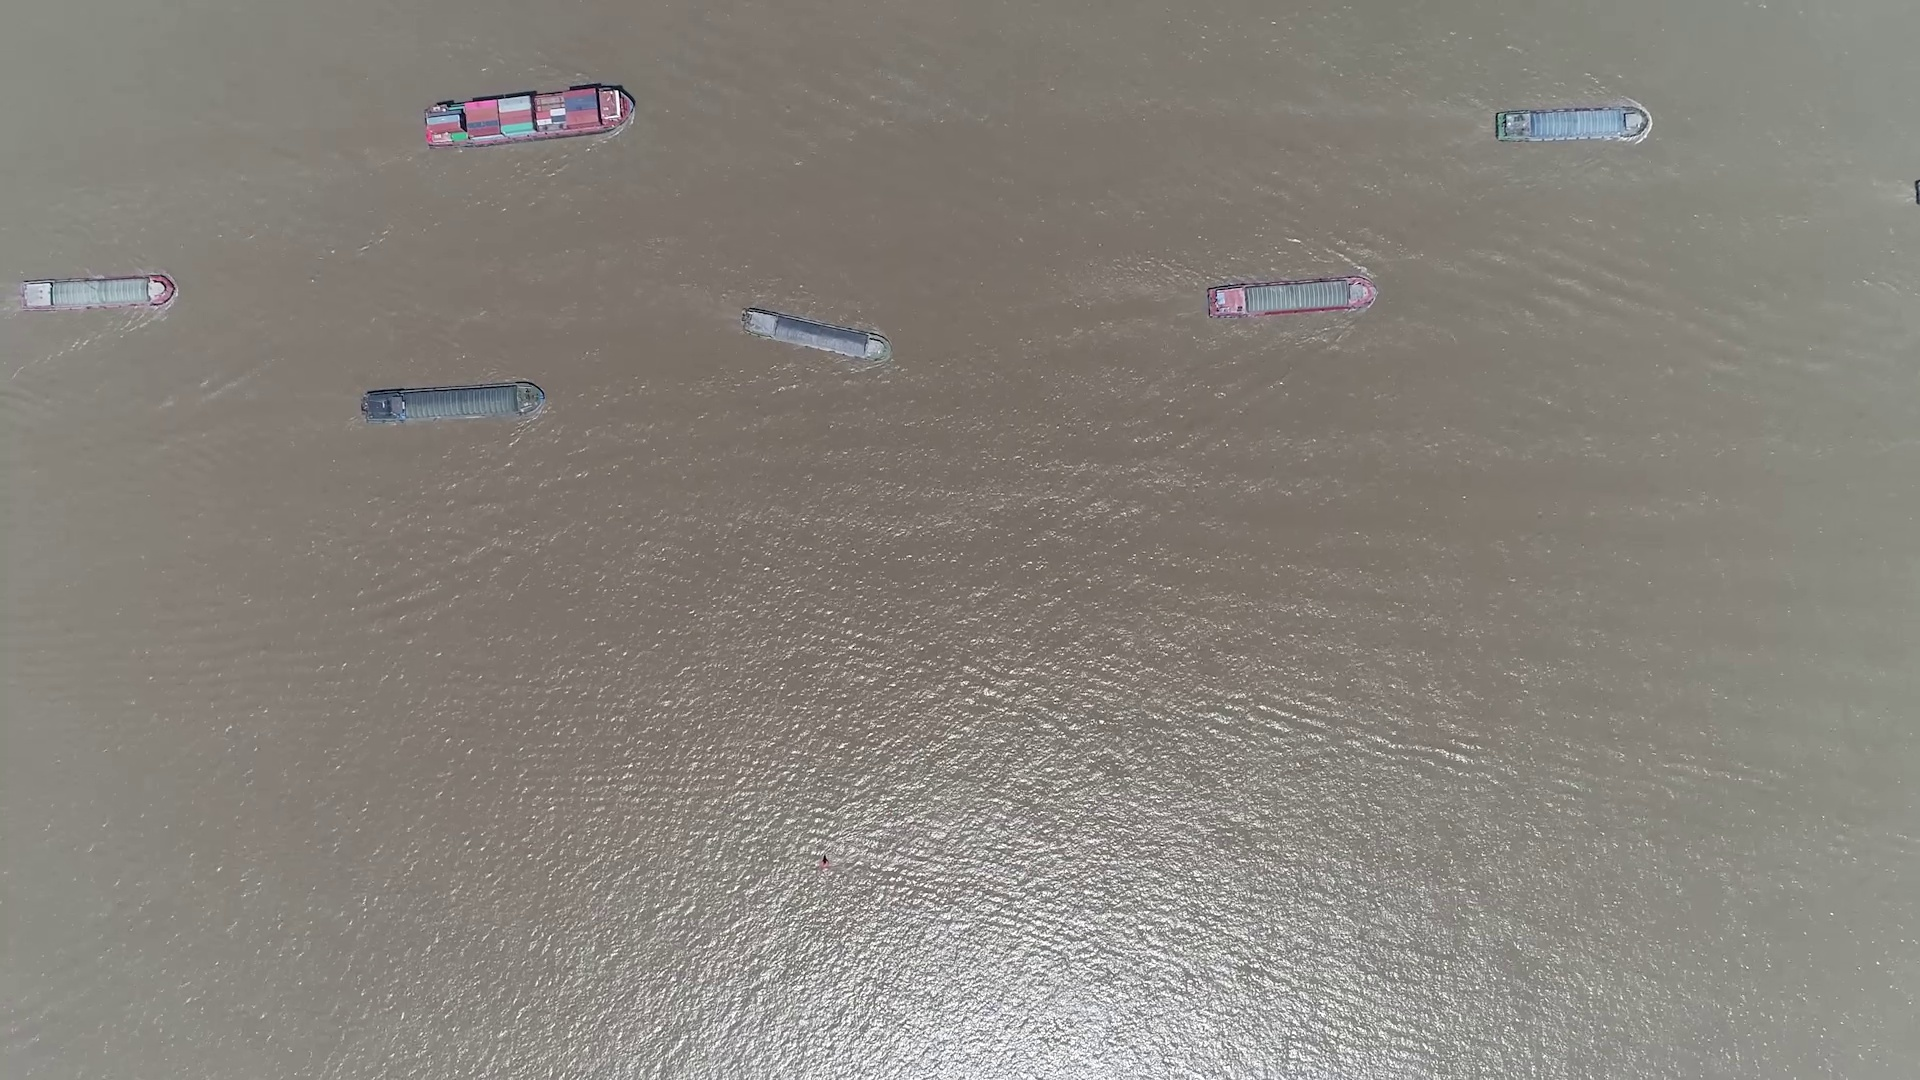ship: (423, 87, 637, 146), (740, 306, 891, 363), (363, 382, 545, 425), (1207, 277, 1377, 318), (18, 276, 174, 310), (1495, 108, 1650, 142)
